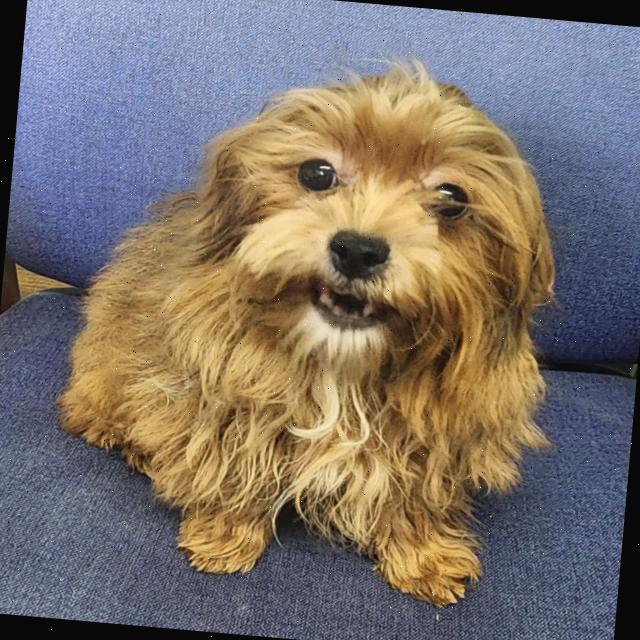shih_tzu_dog: (179, 47, 582, 387)
